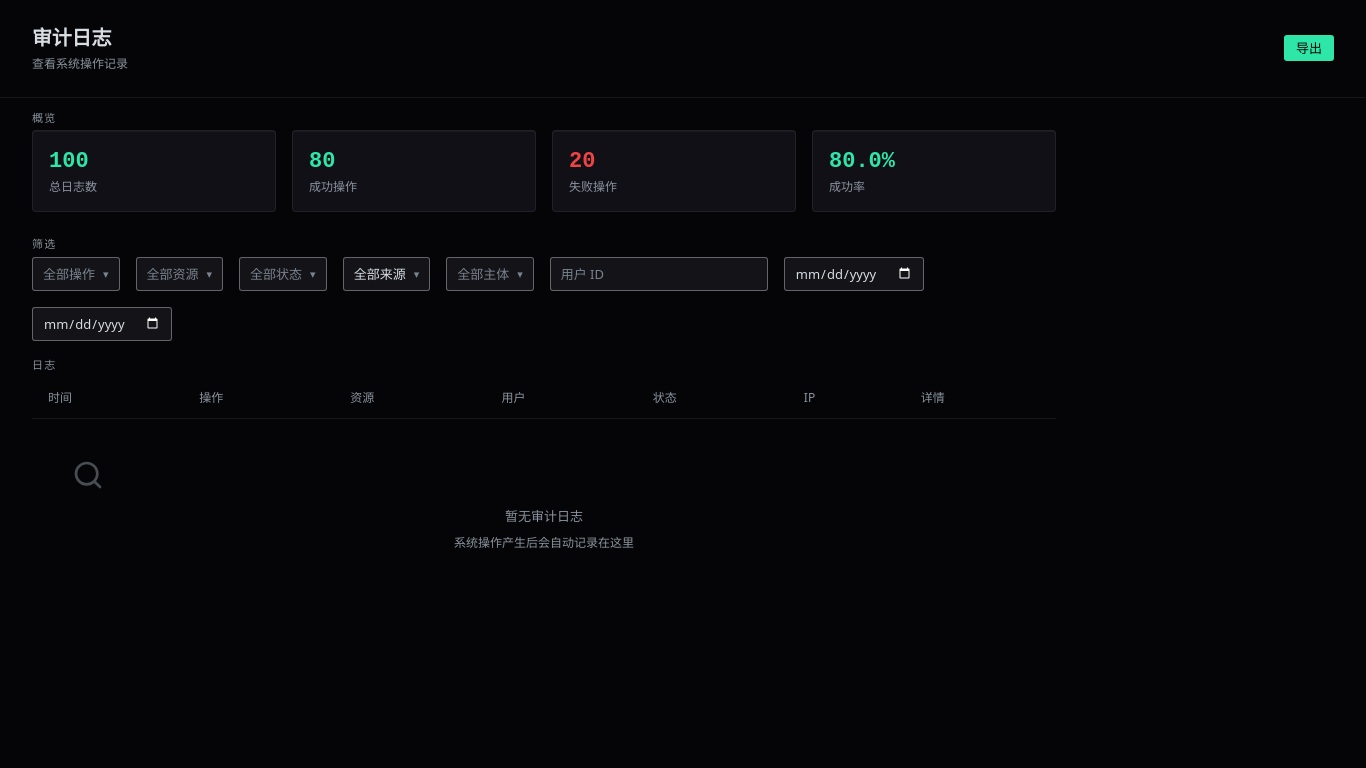
Test: AuditLogsPage（E7 审计日志页改造） › 批次 F-4：空态双语境——筛选无结果出筛选语境文案 + 「清除筛选」，点击重置筛选重拉
Expected: the text "暂无审计日志" is shown, [505, 507, 583, 525]
Click the button with aria-label "状态筛选". click: [283, 274]
box: [239, 256, 327, 291]
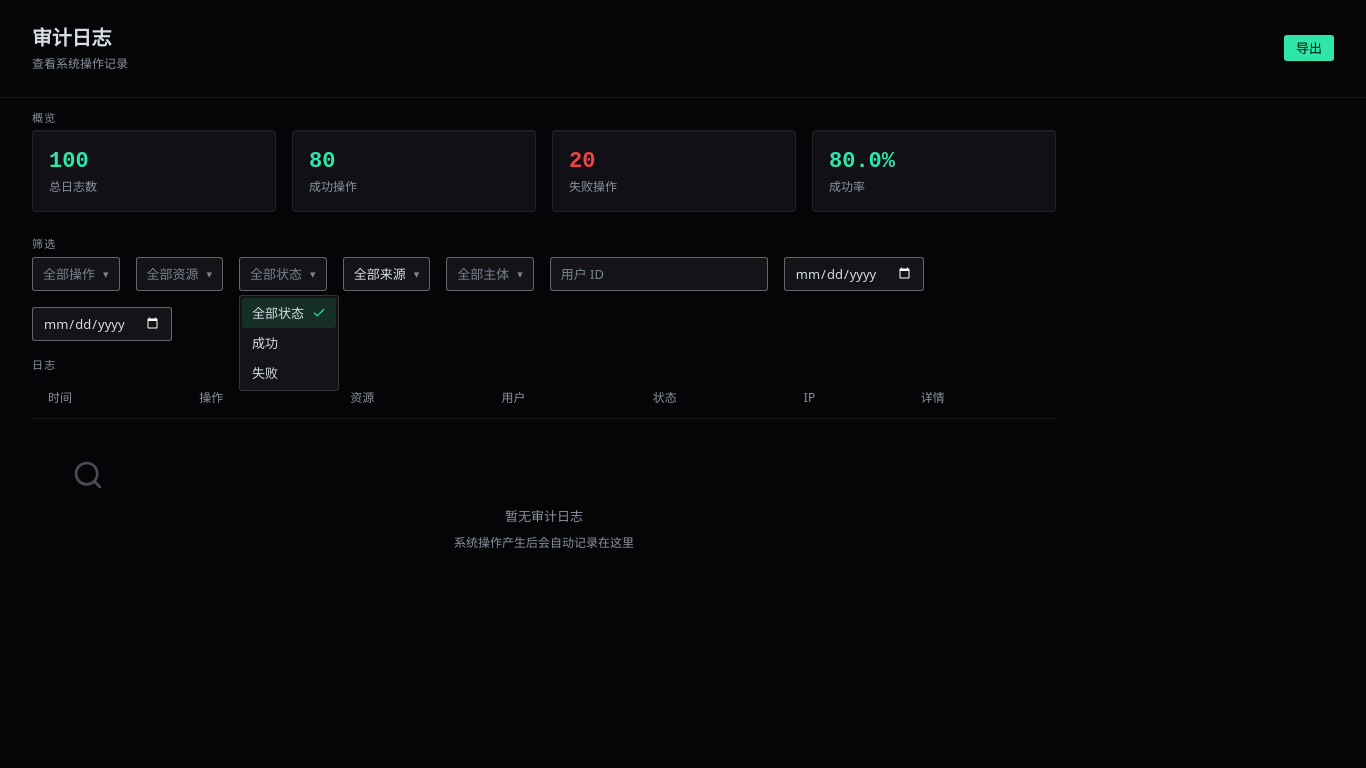
Click the option "失败". click: [265, 373]
box: [252, 364, 278, 382]
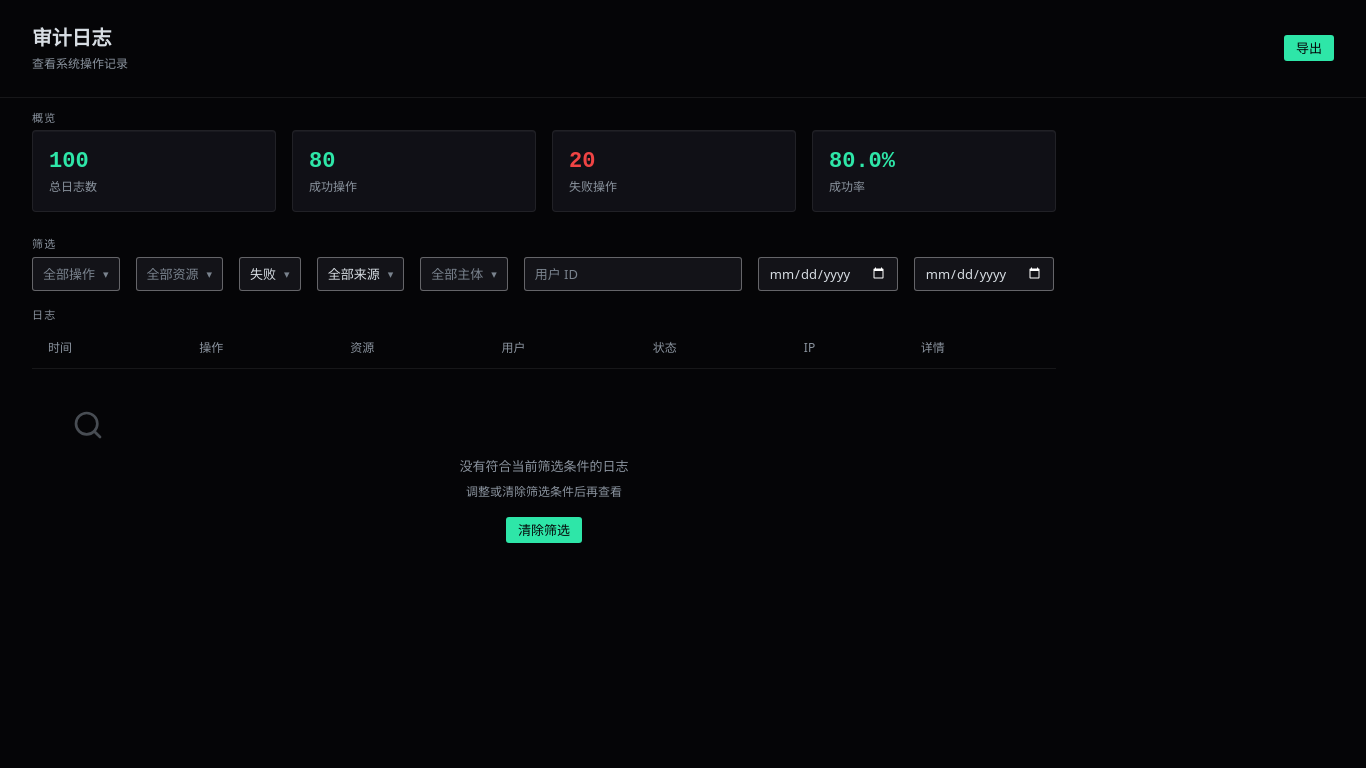
Now the text "没有符合当前筛选条件的日志" is shown, box [460, 457, 628, 475]
Now the text "暂无审计日志" is gone
Click the button "清除筛选". click: [544, 530]
box: [506, 517, 582, 543]
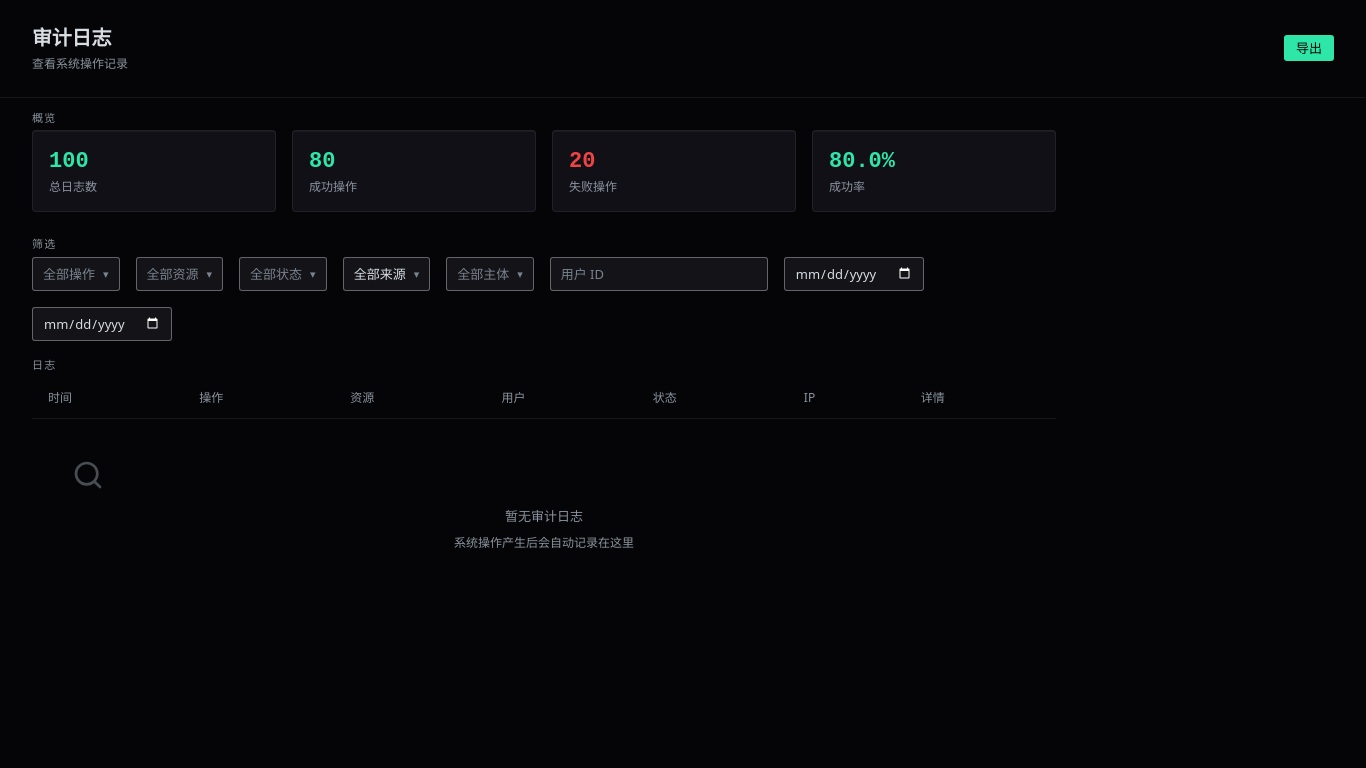
Now the text "暂无审计日志" is shown, box [505, 507, 583, 525]
